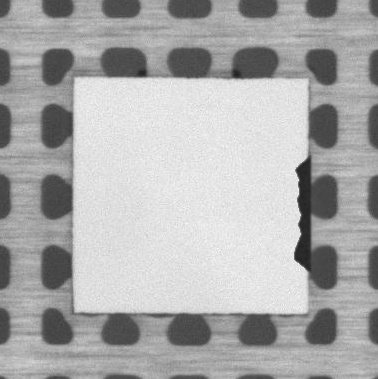DIE_BROKEN: (290, 159, 313, 273)
